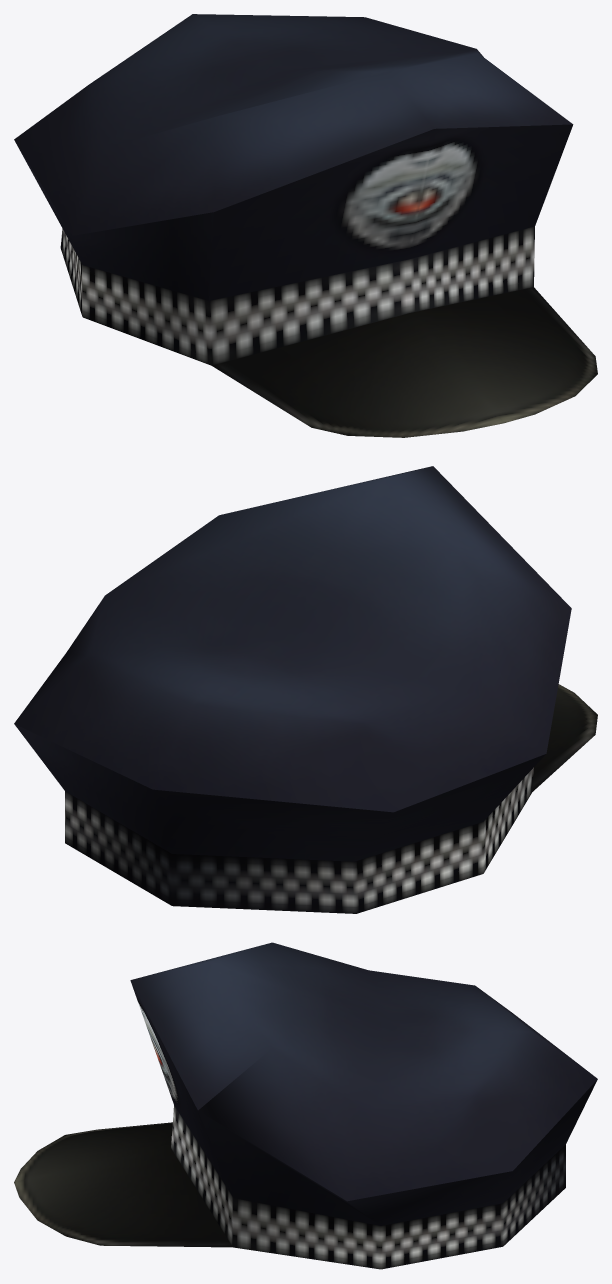
The model's file is tt_m_chr_avt_acc_hat_policeHat.glb.
3 views of the same model, one above another, from view 1: azimuth 30°, elevation 25°; view 2: azimuth 150°, elevation 25°; view 3: azimuth 270°, elevation 25° (orthographic). The views are drawn at different scales.
Parts seen in each view (by area): view 1: policeHat; view 2: policeHat; view 3: policeHat.
Boxes of the visible parts, box(x1,y1,x2,y2) form: policeHat: box(14, 14, 597, 437); policeHat: box(14, 466, 597, 913); policeHat: box(14, 942, 597, 1269).
Size of the model in its own units: 3.12 by 1.7 by 3.99.
Materials: 1 (1 with a texture image).
